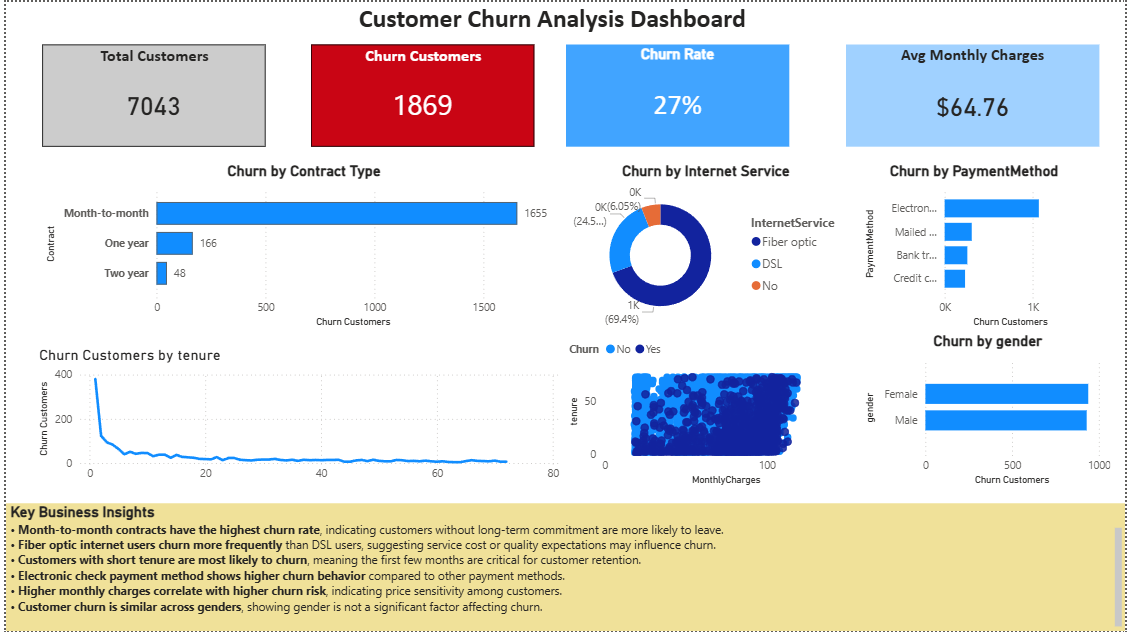

The page's visual inventory and layout, read from the dashboard file:
{"tool":"powerbi","page":{"name":"Page 1","canvas":[1280,720],"ordinal":0},"visuals":[{"type":"card","title":"Total Customers","fields":{"Values":["Telco-Customer-Churn.Total Customers"]},"box":[41.2,48,255.2,116.6],"z":1000},{"type":"card","title":"Churn Customers","fields":{"Values":["Telco-Customer-Churn.Churn Customers"]},"box":[348.5,48,255.2,116.6],"z":2000},{"type":"card","title":"Churn Rate","fields":{"Values":["Telco-Customer-Churn.Churn Rate"]},"box":[639.5,48,255.2,116.6],"z":3000},{"type":"card","title":"Avg Monthly Charges","fields":{"Values":["Telco-Customer-Churn.Avg Monthly Charges"]},"box":[960.6,48,289.5,116.6],"z":4000},{"type":"barChart","title":"Churn by Contract Type","fields":{"Category":["Telco-Customer-Churn.Contract"],"Y":["Telco-Customer-Churn.Churn Customers"]},"box":[41.4,182.9,598.6,194.3],"z":4001},{"type":"donutChart","title":"Churn by Internet Service","fields":{"Category":["Telco-Customer-Churn.InternetService"],"Y":["Telco-Customer-Churn.Churn Customers"]},"box":[640,182.9,320,194.3],"z":4002},{"type":"lineChart","fields":{"Y":["Telco-Customer-Churn.Churn Customers"],"Category":["Telco-Customer-Churn.tenure"]},"box":[32.9,392.9,607.1,164.3],"z":4003},{"type":"barChart","title":"Churn by PaymentMethod","fields":{"Category":["Telco-Customer-Churn.PaymentMethod"],"Y":["Telco-Customer-Churn.Churn Customers"]},"box":[977.1,182.9,258.6,194.3],"z":4005},{"type":"scatterChart","fields":{"X":["Telco-Customer-Churn.MonthlyCharges"],"Y":["Telco-Customer-Churn.tenure"],"Series":["Telco-Customer-Churn.Churn"]},"box":[638.6,377.1,338.6,180],"z":4006},{"type":"barChart","title":"Churn by gender","fields":{"Category":["Telco-Customer-Churn.gender"],"Y":["Telco-Customer-Churn.Churn Customers"]},"box":[977.1,377.1,290,180],"z":4007},{"type":"textbox","title":"Key Business Insights","box":[0,572.9,1280,147.1],"z":4008},{"type":"textbox","title":"Customer Churn Analysis Dashboard","box":[178.6,0,891.4,38.6],"z":4009}]}

Visuals, with their boxes in screenshot pixels (x1, y1, x2, y2), scaled from the page's 1280x720 canvas onto the 1127x632 screenshot:
"Total Customers" card: [left=36, top=42, right=261, bottom=144]
"Churn Customers" card: [left=307, top=42, right=532, bottom=144]
"Churn Rate" card: [left=563, top=42, right=788, bottom=144]
"Avg Monthly Charges" card: [left=846, top=42, right=1101, bottom=144]
"Churn by Contract Type" barChart: [left=36, top=161, right=564, bottom=331]
"Churn by Internet Service" donutChart: [left=564, top=161, right=845, bottom=331]
lineChart - Telco-Customer-Churn.Churn Customers x Telco-Customer-Churn.tenure: [left=29, top=345, right=564, bottom=489]
"Churn by PaymentMethod" barChart: [left=860, top=161, right=1088, bottom=331]
scatterChart - Telco-Customer-Churn.MonthlyCharges x Telco-Customer-Churn.tenure: [left=562, top=331, right=860, bottom=489]
"Churn by gender" barChart: [left=860, top=331, right=1116, bottom=489]
"Key Business Insights" textbox: [left=0, top=503, right=1126, bottom=631]
"Customer Churn Analysis Dashboard" textbox: [left=157, top=0, right=942, bottom=34]
